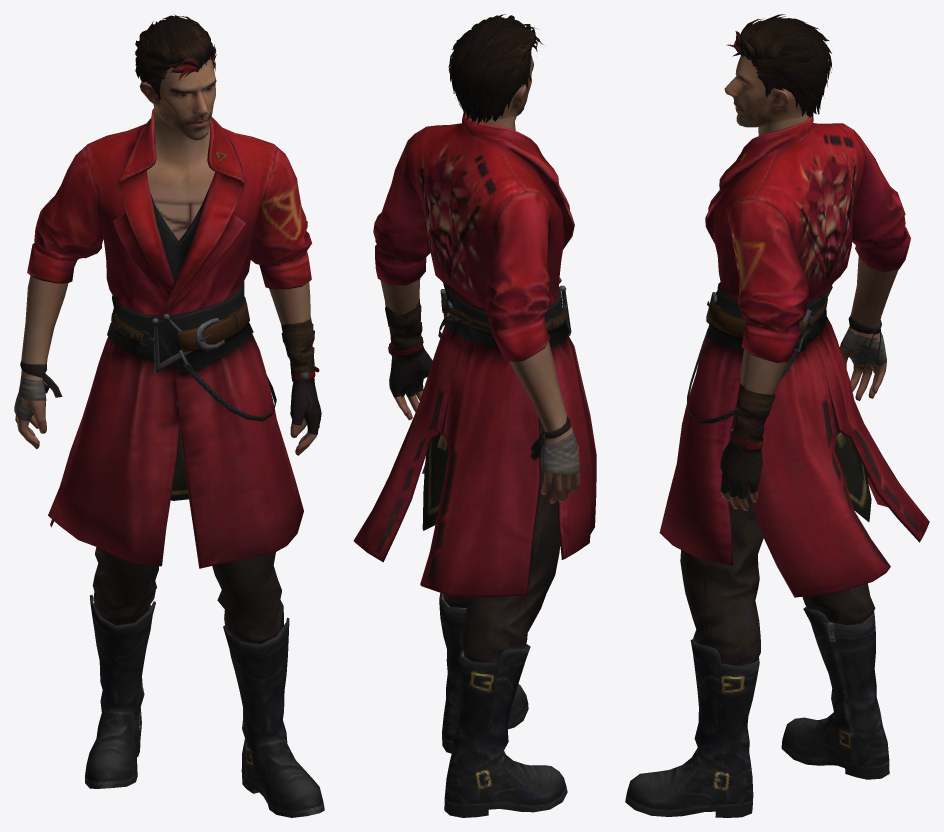
File: kamir.FBX
3 renders of one model, left to right at view 1: azimuth 30°, elevation 25°; view 2: azimuth 150°, elevation 25°; view 3: azimuth 270°, elevation 25°, orthographic.
Visible parts, largest first — view 1: Mesh_3739.rip, Mesh_3737.rip, Mesh_3747.rip; view 2: Mesh_3739.rip, Mesh_3747.rip, Mesh_3737.rip; view 3: Mesh_3739.rip, Mesh_3737.rip, Mesh_3747.rip.
Part boxes in pixels (<box>): Mesh_3739.rip: <box>14,108,324,817</box>; Mesh_3737.rip: <box>15,56,319,455</box>; Mesh_3747.rip: <box>135,14,216,101</box>; Mesh_3739.rip: <box>353,112,596,817</box>; Mesh_3747.rip: <box>448,14,543,124</box>; Mesh_3737.rip: <box>380,56,579,503</box>; Mesh_3739.rip: <box>625,115,929,817</box>; Mesh_3737.rip: <box>720,55,898,510</box>; Mesh_3747.rip: <box>726,14,832,118</box>.
Size of the model in its own units: 0.7501 by 2.23 by 0.8064.
